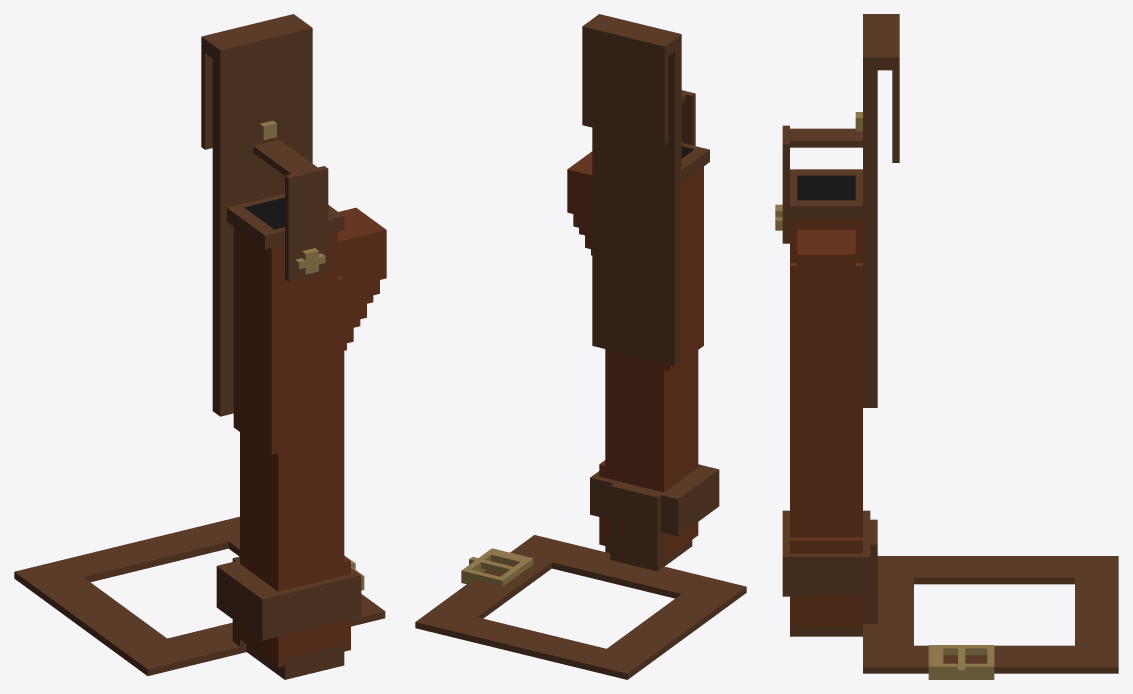
Rendered from large_holster.glb.
The picture shows the model from 3 angles, left to right: view 1: azimuth 30°, elevation 25°; view 2: azimuth 150°, elevation 25°; view 3: azimuth 270°, elevation 25°; orthographic projection. The views are drawn at different scales.
Parts seen in each view (by area): view 1: large_holster:compound; view 2: large_holster:compound; view 3: large_holster:compound.
Part boxes in pixels (x1=…): large_holster:compound: x1=14, y1=14, x2=386, y2=679; large_holster:compound: x1=415, y1=14, x2=746, y2=679; large_holster:compound: x1=775, y1=14, x2=1118, y2=679.
Size of the model in its own units: 0.156 by 0.352 by 0.188.
